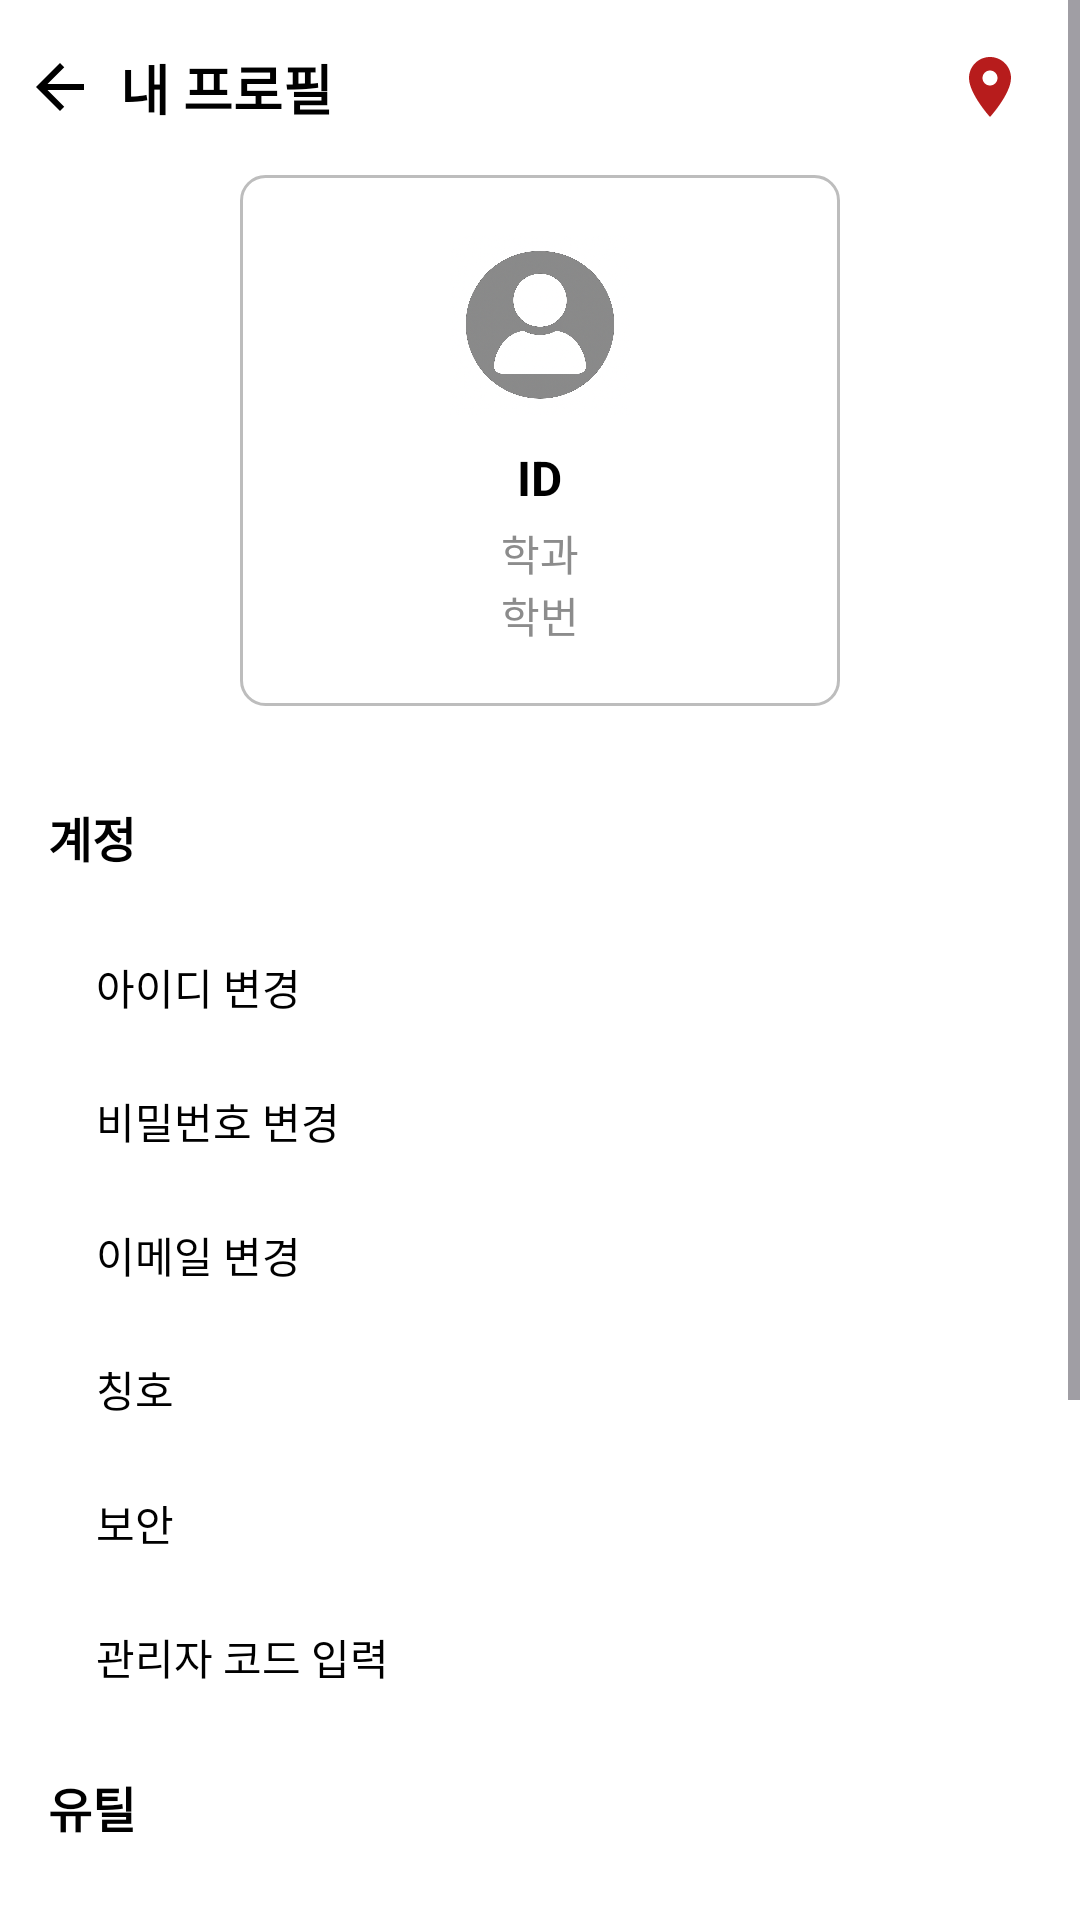

Icons on this 1080×1920 Android screen, each with its box as [x1=x1, y1=y1, x2=x2, y2=y2]:
Profile: [x1=466, y1=251, x2=614, y2=399]
뒤로가기: [x1=36, y1=63, x2=84, y2=111]
지도: [x1=969, y1=57, x2=1011, y2=117]
